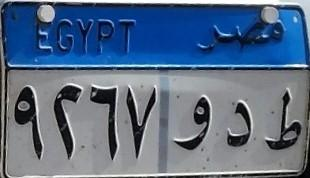2: (52, 82, 84, 160)
6: (86, 84, 123, 160)
7: (124, 81, 159, 160)
9: (11, 82, 48, 160)
Taa: (262, 85, 305, 155)
daal: (218, 91, 257, 148)
waw: (172, 91, 213, 155)
